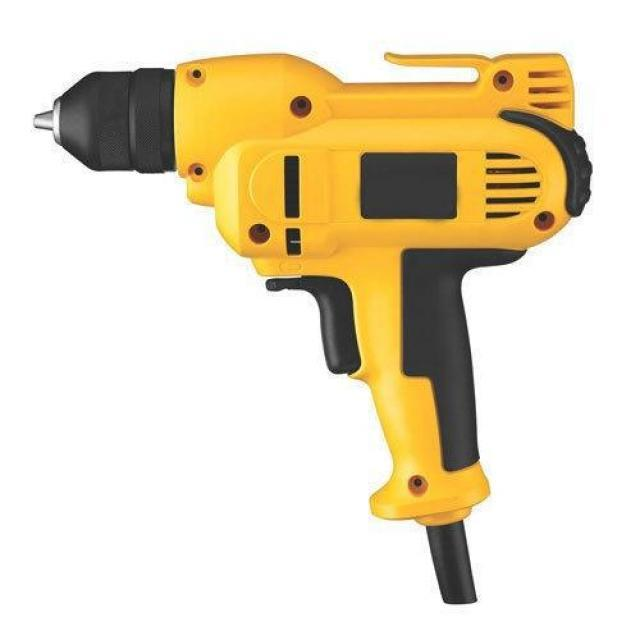drill: (32, 52, 594, 608)
